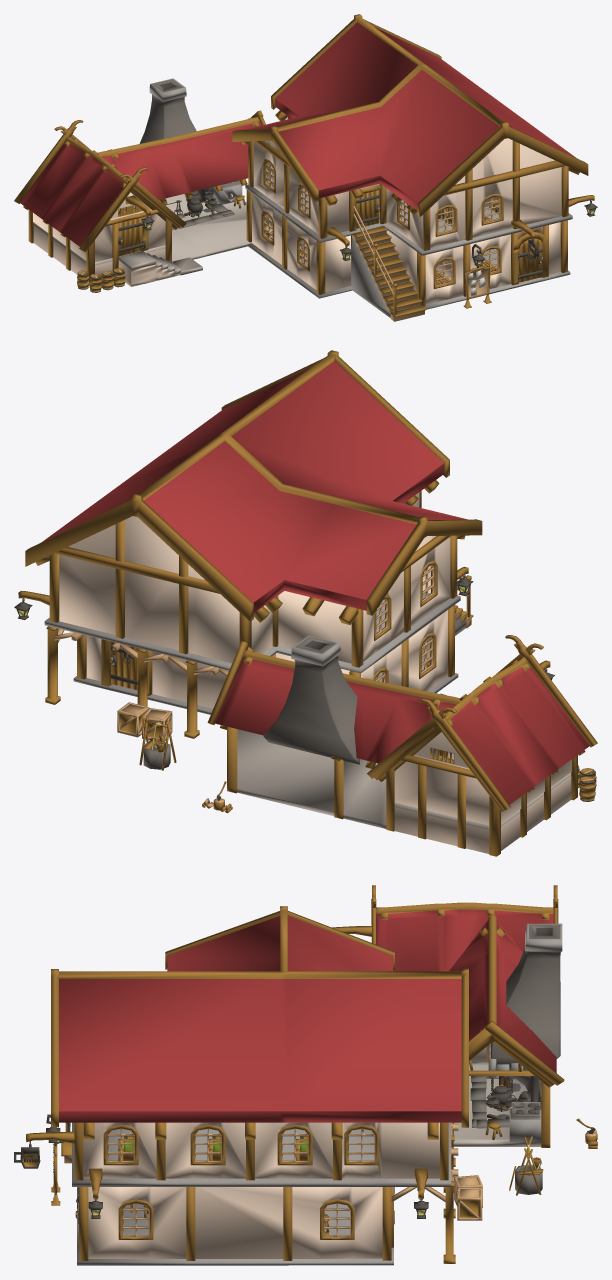
Rendered from SHOP_inn.fbx.
3 renders of one model, top to bottom at view 1: azimuth 30°, elevation 25°; view 2: azimuth 150°, elevation 25°; view 3: azimuth 270°, elevation 25°, orthographic. The views are drawn at different scales.
Visible parts, largest first — view 1: Empty_Mesh_3, Empty_Mesh_2, Empty_Mesh_1, Empty_Mesh_5, Empty_Mesh, Empty_Mesh_4; view 2: Empty_Mesh_3, Empty_Mesh_2, Empty_Mesh_1, Empty_Mesh_5, Empty_Mesh_4, Empty_Mesh; view 3: Empty_Mesh_3, Empty_Mesh_2, Empty_Mesh_1, Empty_Mesh_5, Empty_Mesh_4, Empty_Mesh_6.
Part boxes in pixels (bbox=[...]): Empty_Mesh_3: bbox=[14, 14, 588, 252]; Empty_Mesh_2: bbox=[28, 189, 570, 321]; Empty_Mesh_1: bbox=[245, 116, 572, 255]; Empty_Mesh_5: bbox=[77, 78, 245, 292]; Empty_Mesh: bbox=[118, 190, 542, 282]; Empty_Mesh_4: bbox=[266, 195, 597, 284]; Empty_Mesh_3: bbox=[25, 350, 597, 811]; Empty_Mesh_2: bbox=[45, 575, 577, 856]; Empty_Mesh_1: bbox=[44, 490, 460, 673]; Empty_Mesh_5: bbox=[139, 635, 596, 813]; Empty_Mesh_4: bbox=[14, 566, 473, 741]; Empty_Mesh: bbox=[110, 641, 137, 690]; Empty_Mesh_3: bbox=[51, 885, 564, 1146]; Empty_Mesh_2: bbox=[14, 1045, 550, 1265]; Empty_Mesh_1: bbox=[72, 1122, 451, 1186]; Empty_Mesh_5: bbox=[332, 923, 597, 1195]; Empty_Mesh_4: bbox=[88, 1168, 482, 1235]; Empty_Mesh_6: bbox=[118, 1129, 363, 1160].
Bounding box in the file's own units: 135 × 54.4 × 118.
